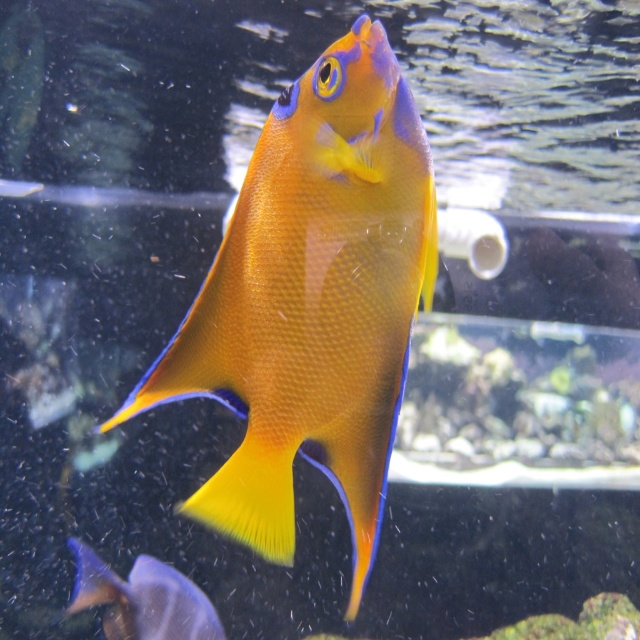Goldfish: (87, 0, 452, 610)
